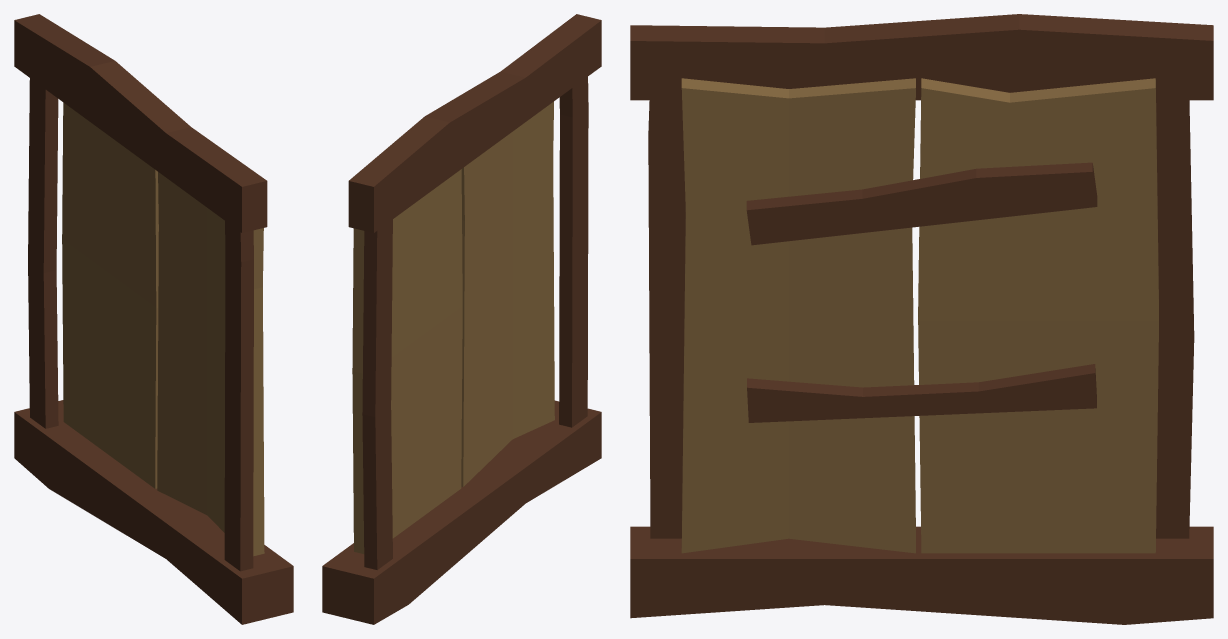
Rendered from StiltWindow_Closed.fbx.
The picture shows the model from 3 angles, left to right: view 1: azimuth 30°, elevation 25°; view 2: azimuth 150°, elevation 25°; view 3: azimuth 270°, elevation 25°; orthographic projection. The views are drawn at different scales.
Parts seen in each view (by area): view 1: Window_4; view 2: Window_4; view 3: Window_4.
Boxes of the visible parts, bbox=[...] form: Window_4: bbox=[14, 14, 293, 624]; Window_4: bbox=[322, 14, 601, 624]; Window_4: bbox=[630, 14, 1213, 624].
Bounding box in the file's own units: 9.88 × 74.3 × 67.9.
